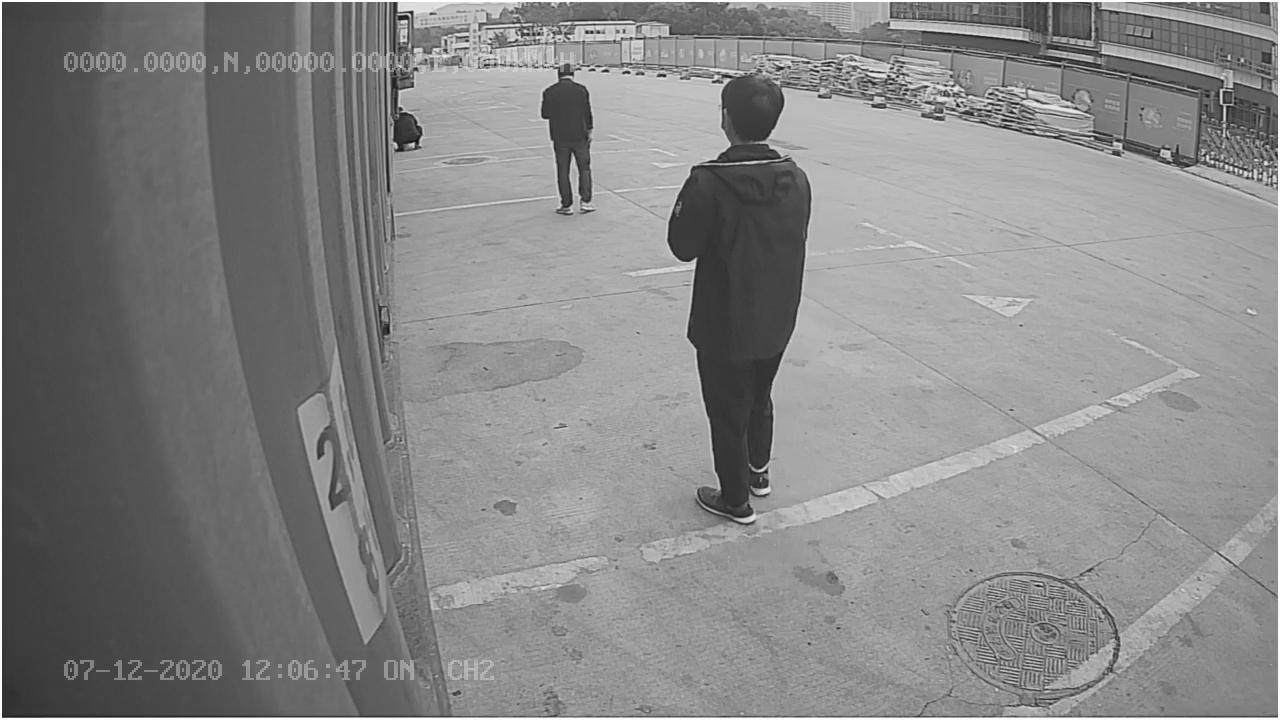person: (670, 69, 813, 527)
